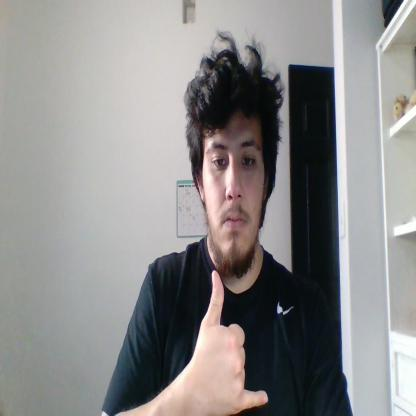Y: (192, 269, 268, 415)
